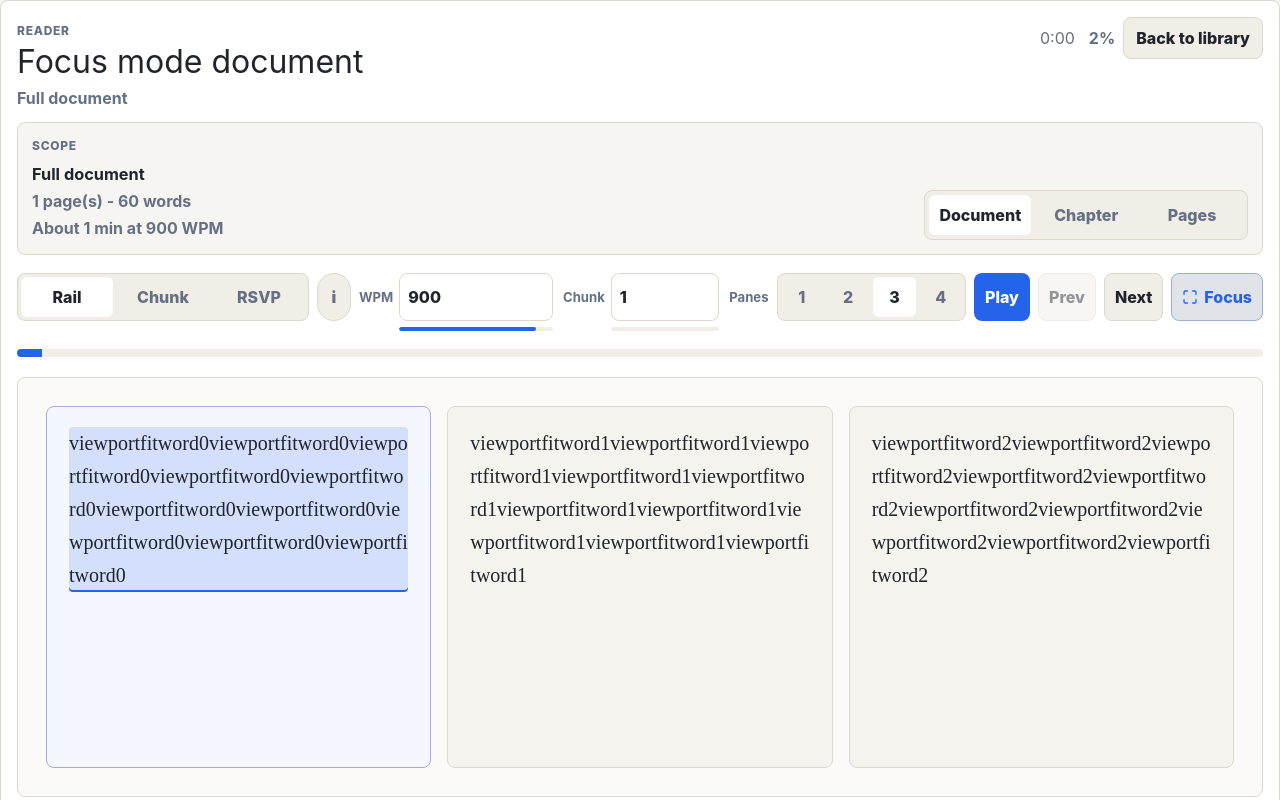
Test: ReaderRail virtual panes › keeps 3-pane playback bounded as the active pane advances
Click the button "Play". click: {"x": 1002, "y": 297}
box: [974,273,1030,321]
Wait 840 ms
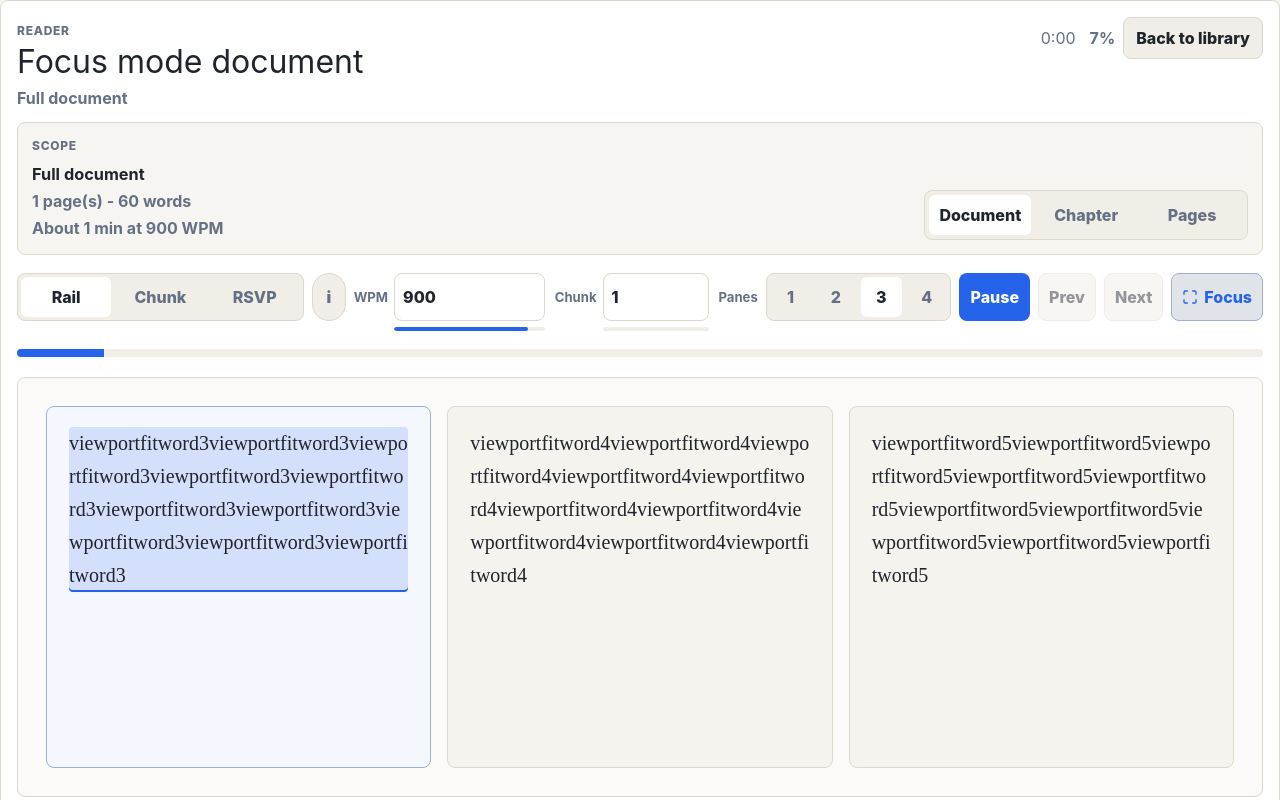
Now the button with class "active-chunk" shows "viewportfitword3", box [69,427,408,592]
